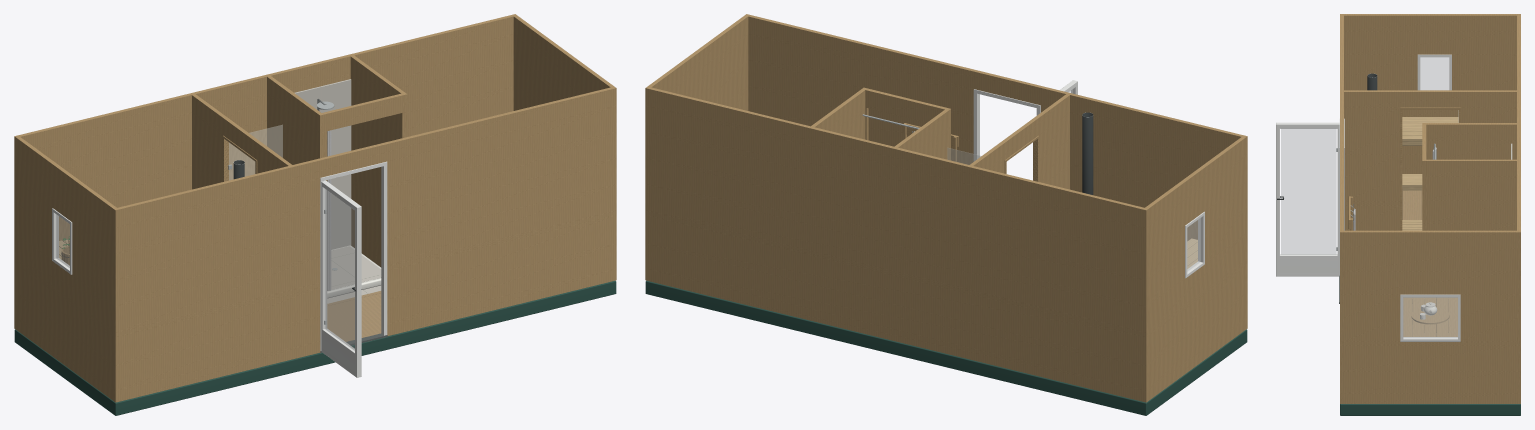
The picture shows the model from 3 angles, left to right: view 1: azimuth 30°, elevation 25°; view 2: azimuth 150°, elevation 25°; view 3: azimuth 270°, elevation 25°; orthographic projection. The views are drawn at different scales.
Visible parts, largest first — view 1: DP05-W01, DP05-W02, DP05-W03, Dimensioned foundation, Hinge_DP05-D02, DP05-W07, Shower tray and wall mounted column, DP05-W04, DP05-W05, DP05-W06, Door entry p5_i1344, DP05-R03 (+3 smaller); view 2: DP05-W02, DP05-W01, DP05-W03, Dimensioned foundation, DP05-W04, DP05-W05, DP05-W06, DP05-W08, DP05-W07, Window p5_i1346, ASTON dimensioned stove and remote firebox, Door entry p5_i1344; view 3: DP05-W04, DP05-W03, DP05-W05, Hinge_DP05-D02, DP05-W07, DP05-W06, Window p5_i1348, С1 table, Dimensioned foundation, DP05-W01, DP05-W02, Window p5_i1346 (+6 smaller).
Boxes of the visible parts, x1,y1,x2,y2 form: DP05-W01: (113, 86, 616, 402); DP05-W02: (14, 14, 516, 329); DP05-W03: (16, 137, 116, 400); Dimensioned foundation: (14, 280, 616, 415); Hinge_DP05-D02: (321, 180, 361, 377); DP05-W07: (350, 55, 407, 267); Shower tray and wall mounted column: (294, 79, 381, 298); DP05-W04: (513, 15, 613, 110); DP05-W05: (192, 94, 291, 189); DP05-W06: (267, 76, 323, 164); Door entry p5_i1344: (320, 161, 387, 352); DP05-R03: (327, 293, 381, 341); DP05-W02: (645, 86, 1148, 402); DP05-W01: (745, 14, 1247, 329); DP05-W03: (1145, 137, 1245, 400); Dimensioned foundation: (645, 280, 1247, 415); DP05-W04: (648, 15, 748, 110); DP05-W05: (970, 94, 1069, 189); DP05-W06: (894, 108, 950, 160); DP05-W08: (865, 88, 946, 140); DP05-W07: (811, 87, 867, 139); Window p5_i1346: (1185, 211, 1204, 278); ASTON dimensioned stove and remote firebox: (1082, 112, 1093, 194); Door entry p5_i1344: (973, 89, 1040, 161); DP05-W04: (1344, 230, 1516, 403); DP05-W03: (1344, 14, 1516, 173); DP05-W05: (1344, 90, 1516, 230); Hinge_DP05-D02: (1276, 122, 1339, 276); DP05-W07: (1422, 159, 1516, 331); DP05-W06: (1422, 123, 1516, 159); Window p5_i1348: (1400, 294, 1460, 341); С1 table: (1403, 297, 1457, 336); Dimensioned foundation: (1340, 404, 1520, 415); DP05-W01: (1340, 14, 1343, 403); DP05-W02: (1517, 14, 1520, 403); Window p5_i1346: (1417, 54, 1451, 90).
Size of the model in its own units: 6.02 by 2.36 by 2.84.
33 materials, 14 textured.
